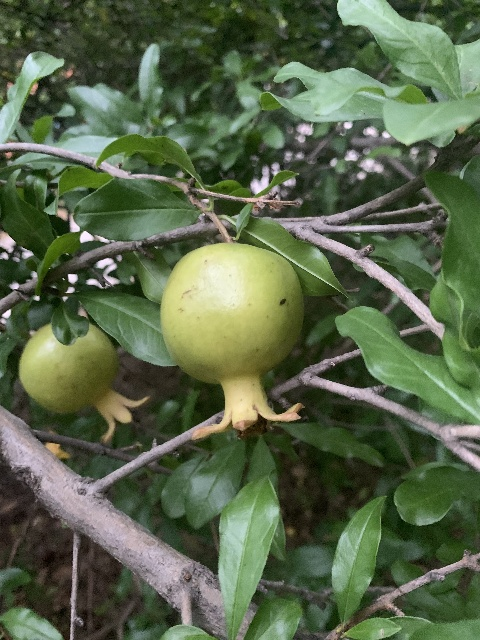mid-growth: (159, 241, 306, 440), (18, 321, 151, 445)
